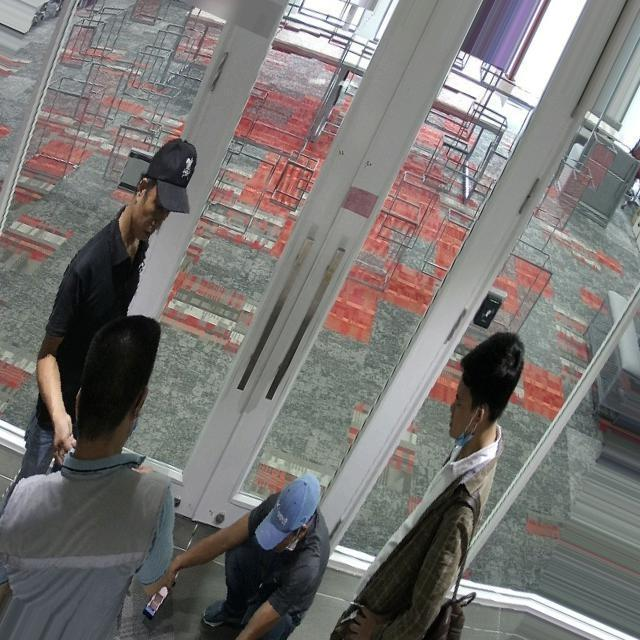hairnet: (448, 388, 478, 450)
